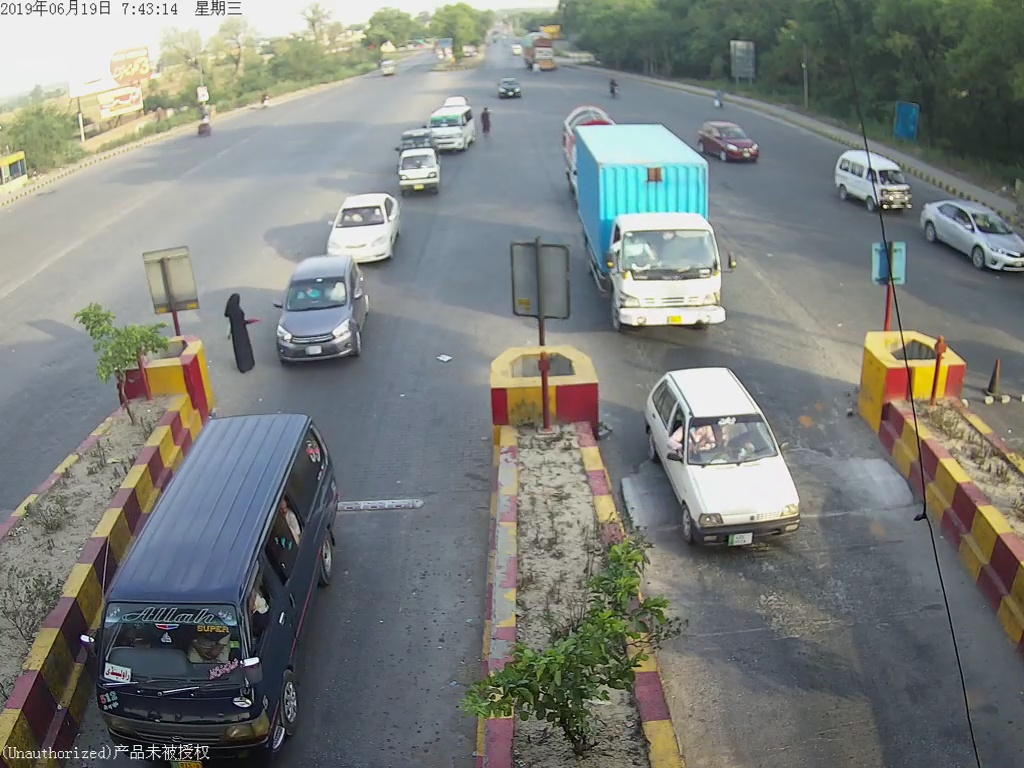Cat-1: (639, 370, 816, 549), (273, 264, 378, 356), (328, 195, 395, 258), (392, 136, 446, 195)
Cat-2: (92, 419, 346, 746), (578, 129, 741, 341)
